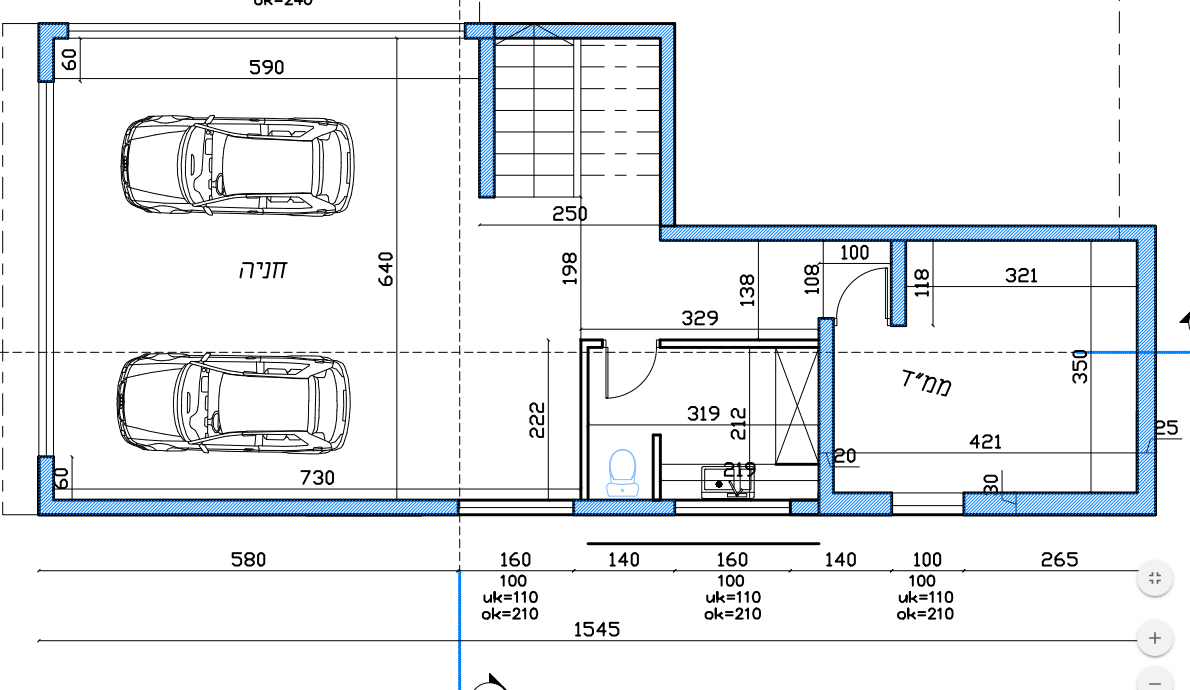door: (602, 350, 661, 404), (829, 269, 891, 315)
wall: (667, 228, 1119, 238), (42, 501, 453, 511), (1025, 496, 1150, 513), (1138, 230, 1154, 348), (663, 27, 671, 222), (482, 42, 492, 187), (558, 24, 661, 38), (1141, 360, 1152, 432)
window: (457, 494, 575, 526), (673, 492, 791, 524), (890, 489, 967, 520)
